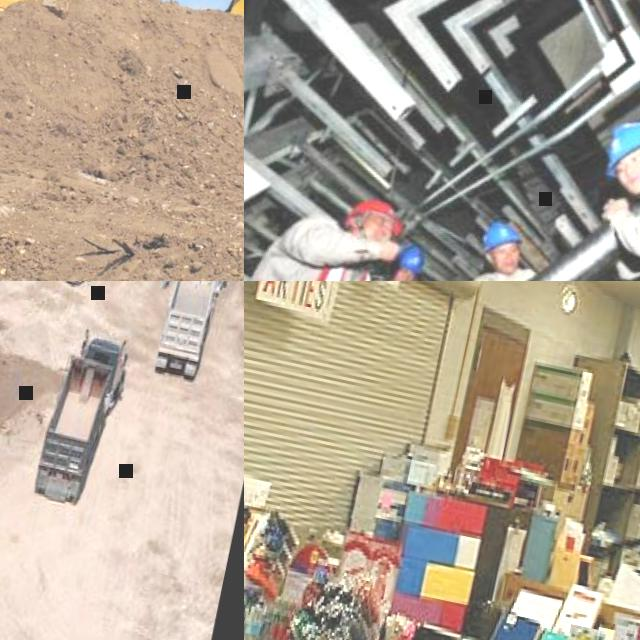helmet: (343, 193, 408, 236), (602, 115, 640, 178), (478, 218, 528, 260), (397, 246, 426, 276)
machinery: (0, 0, 244, 145), (29, 323, 136, 512), (152, 281, 239, 384)
no_mask: (352, 221, 388, 245), (622, 165, 640, 195), (497, 257, 517, 274), (390, 270, 408, 281)
person: (244, 162, 460, 281), (396, 209, 560, 281), (347, 235, 424, 281)
vest: (246, 241, 376, 281)
